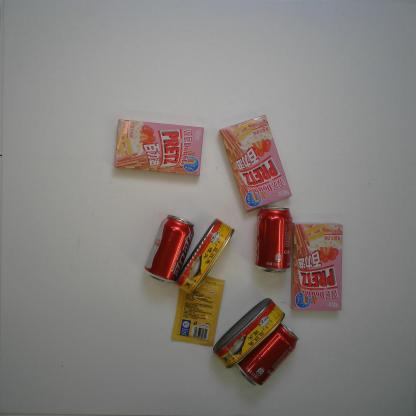Canned Food: (212, 297, 287, 370), (173, 218, 235, 297)
Dessert: (218, 114, 292, 212), (113, 118, 205, 176), (288, 220, 344, 312)
Drink: (236, 322, 299, 388), (143, 214, 195, 284), (252, 205, 294, 274)
Seasoner: (170, 274, 226, 348)
